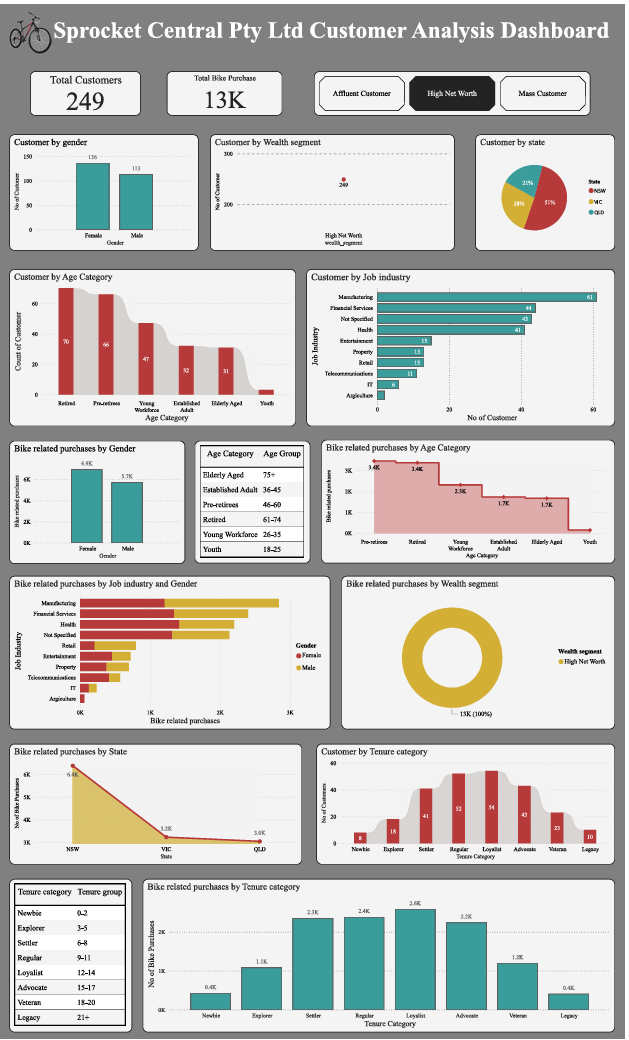

What the dashboard file says about the page in this screenshot:
{"tool":"powerbi","page":{"name":"Complete","canvas":[1300,2150],"ordinal":4},"visuals":[{"type":"pieChart","title":"Customer by state","fields":{"Y":["Count(Cleaning.Customer )"],"Category":["Cleaning.state"]},"box":[988.3,270,290,241.7],"z":0},{"type":"clusteredColumnChart","title":"Customer by gender","fields":{"Category":["Cleaning.gender"],"Y":["CountNonNull(Cleaning.Customer )","CountNonNull(Cleaning.Customer )"]},"box":[20,270,393.3,241.7],"z":1000},{"type":"ribbonChart","title":"Customer  by Age Category","fields":{"Category":["Cleaning.Age Category"],"Y":["Count(Cleaning.Customer )"]},"box":[20,550,595,326.7],"z":2000},{"type":"areaChart","title":"Customer by Wealth segment","fields":{"Category":["Cleaning.wealth_segment"],"Y":["Count(Cleaning.Customer )"]},"box":[436.7,270,508.3,241.7],"z":3000},{"type":"clusteredBarChart","title":"Customer  by Job industry","fields":{"Category":["Cleaning.job_industry_category"],"Y":["Count(Cleaning.Customer )"]},"box":[636.7,550,641.7,326.7],"z":4000},{"type":"donutChart","title":"Bike related purchases by Wealth segment","fields":{"Category":["Cleaning.wealth_segment"],"Y":["Sum(Cleaning.past_3_years_bike_related_purchases)"]},"box":[710,1188.3,568.3,318.3],"z":5000},{"type":"stackedAreaChart","title":"Bike related purchases by Age Category","fields":{"Category":["Cleaning.Age Category"],"Y":["Sum(Cleaning.past_3_years_bike_related_purchases)"]},"box":[668.3,905,610,256.7],"z":6000},{"type":"columnChart","title":"Bike related purchases by Gender","fields":{"Category":["Cleaning.gender"],"Y":["Sum(Cleaning.past_3_years_bike_related_purchases)"]},"box":[20,906.7,365,256.7],"z":7000},{"type":"barChart","title":"Bike related purchases by Job industry and Gender","fields":{"Category":["Cleaning.job_industry_category"],"Y":["Sum(Cleaning.past_3_years_bike_related_purchases)"],"Series":["Cleaning.gender"]},"box":[20,1188.3,666.7,318.3],"z":8000},{"type":"areaChart","title":"Bike related purchases by State","fields":{"Category":["Cleaning.state"],"Y":["Sum(Cleaning.past_3_years_bike_related_purchases)"]},"box":[20,1536.7,608.3,251.7],"z":9000},{"type":"clusteredColumnChart","title":"Bike related purchases by Tenure category","fields":{"Category":["Cleaning.Tenure category"],"Y":["Sum(Cleaning.past_3_years_bike_related_purchases)"]},"box":[296.7,1818.3,981.7,318.3],"z":10000},{"type":"ribbonChart","title":"Customer  by Tenure category","fields":{"Y":["Count(Cleaning.Customer )"],"Category":["Cleaning.Tenure category"]},"box":[658.3,1536.7,620,251.7],"z":11000},{"type":"tableEx","fields":{"Values":["Cleaning.Age Category","Cleaning.Age Group"]},"box":[405,906.7,240,255],"z":12000},{"type":"tableEx","fields":{"Values":["Cleaning.Tenure category","Cleaning.Tenure group"]},"box":[20,1818.3,255,318.3],"z":13000},{"type":"advancedSlicerVisual","fields":{"Values":["Cleaning.wealth_segment"]},"box":[653.3,139.3,574,92],"z":14000},{"type":"card","title":"Total Customers","fields":{"Values":["Count(Cleaning.Customer )"]},"box":[63.3,139.3,230,92],"z":15000},{"type":"card","title":"Total Bike Purchase","fields":{"Values":["Sum(Cleaning.past_3_years_bike_related_purchases)"]},"box":[347.3,139.3,240,92],"z":16000},{"type":"textbox","box":[78.3,20,1221.7,81.7],"z":17000},{"type":"image","box":[13.3,10,100,103.3],"z":18000}]}

Visuals, with their boxes in screenshot pixels (x1, y1, x2, y2), scaled from the page's 1300x2150 canvas onto the 629x1040 screenshot:
"Customer by state" pieChart: crop(478, 131, 619, 248)
"Customer by gender" clusteredColumnChart: crop(10, 131, 200, 248)
"Customer  by Age Category" ribbonChart: crop(10, 266, 298, 424)
"Customer by Wealth segment" areaChart: crop(211, 131, 457, 248)
"Customer  by Job industry" clusteredBarChart: crop(308, 266, 619, 424)
"Bike related purchases by Wealth segment" donutChart: crop(344, 575, 619, 729)
"Bike related purchases by Age Category" stackedAreaChart: crop(323, 438, 619, 562)
"Bike related purchases by Gender" columnChart: crop(10, 439, 186, 563)
"Bike related purchases by Job industry and Gender" barChart: crop(10, 575, 332, 729)
"Bike related purchases by State" areaChart: crop(10, 743, 304, 865)
"Bike related purchases by Tenure category" clusteredColumnChart: crop(144, 880, 619, 1034)
"Customer  by Tenure category" ribbonChart: crop(319, 743, 619, 865)
tableEx - Cleaning.Age Category x Cleaning.Age Group: crop(196, 439, 312, 562)
tableEx - Cleaning.Tenure category x Cleaning.Tenure group: crop(10, 880, 133, 1034)
advancedSlicerVisual - Cleaning.wealth_segment: crop(316, 67, 594, 112)
"Total Customers" card: crop(31, 67, 142, 112)
"Total Bike Purchase" card: crop(168, 67, 284, 112)
textbox: crop(38, 10, 628, 49)
image: crop(6, 5, 55, 55)
